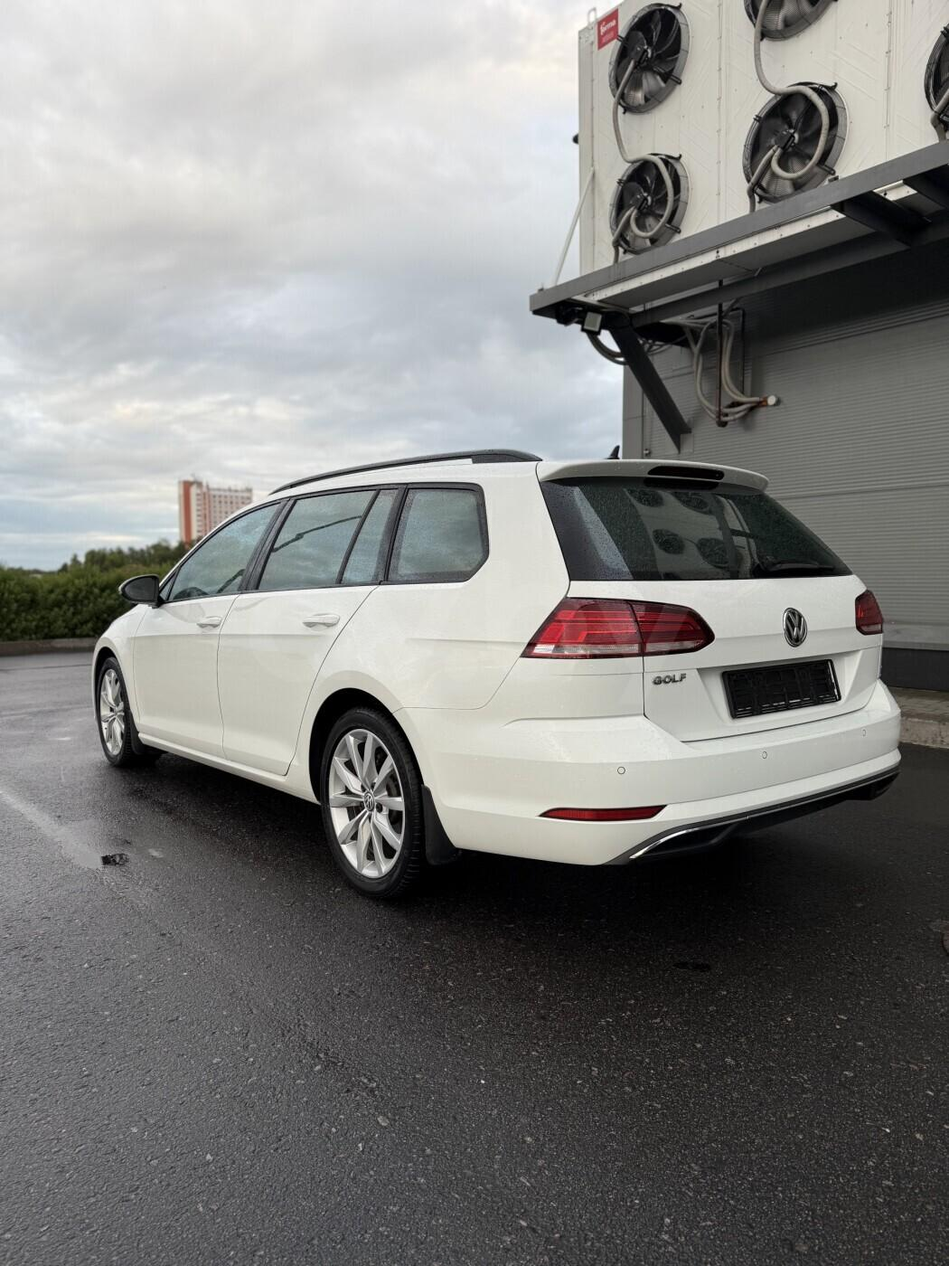Golf_2017-2021: (87, 450, 904, 912)
